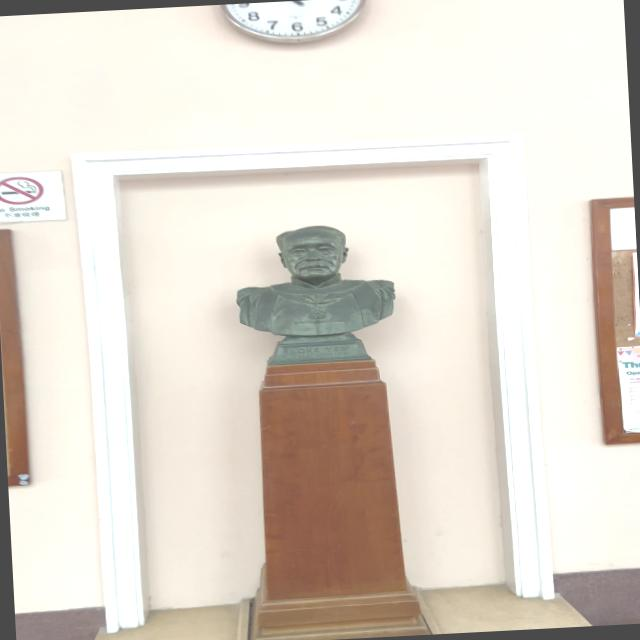statues: (223, 216, 407, 371)
